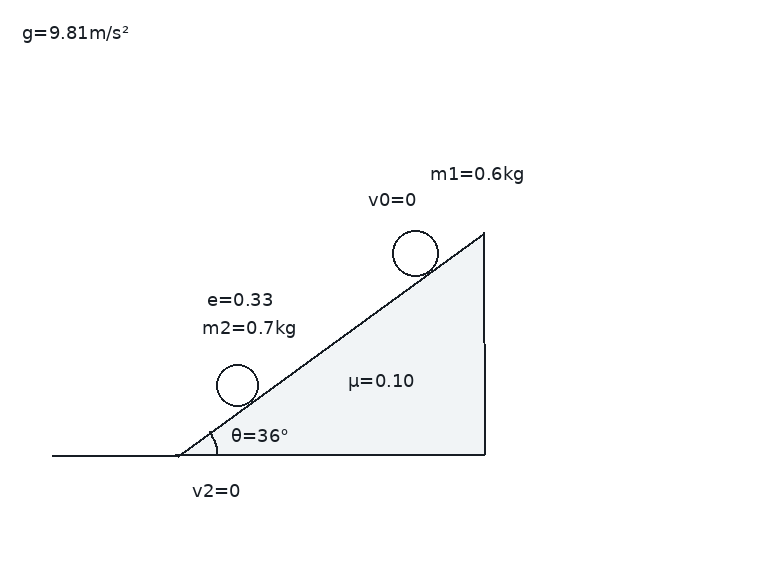ball: (390, 228, 440, 278), (214, 362, 260, 408)
ramp: (175, 230, 486, 457)
